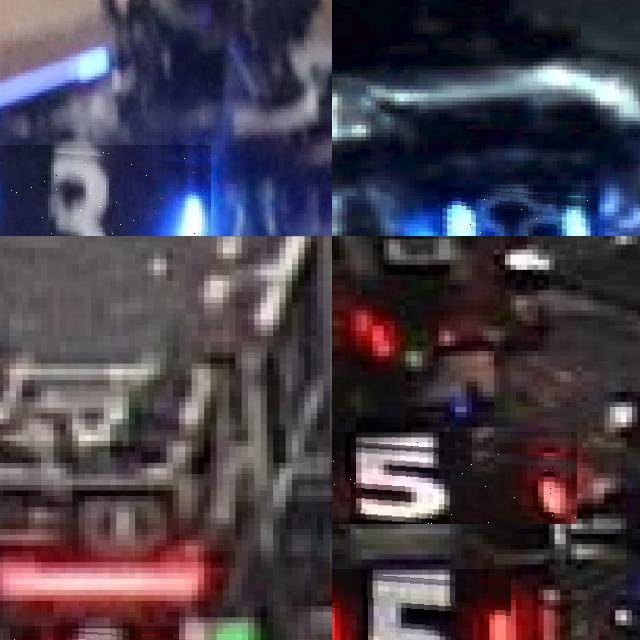B3: (0, 145, 211, 236)
Bs: (440, 186, 597, 236)
R5: (332, 432, 576, 523), (332, 569, 510, 640)
